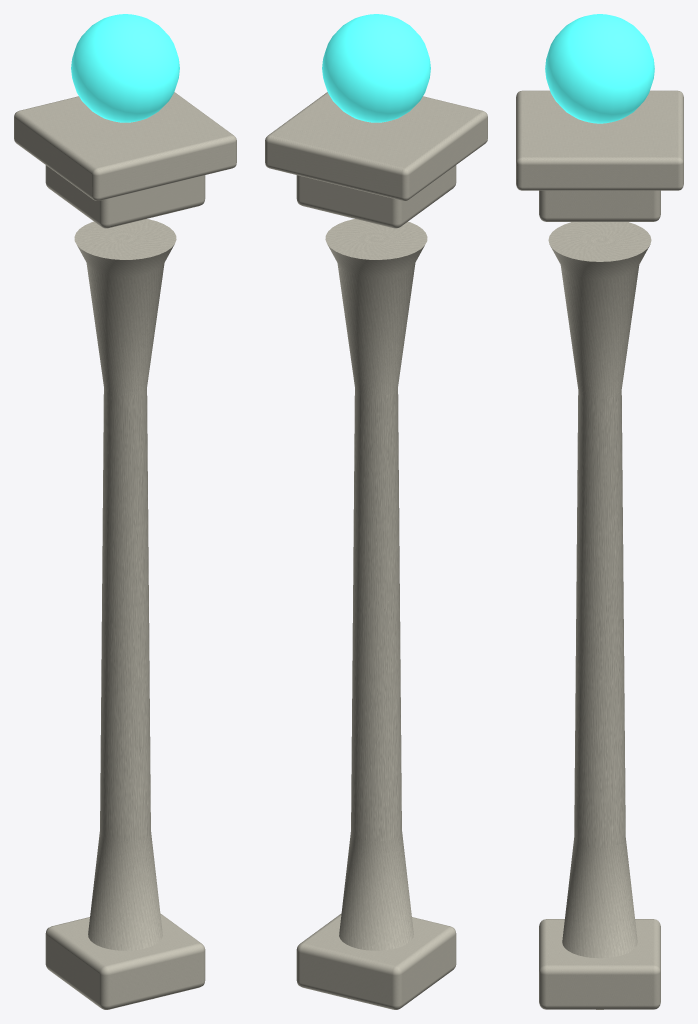
Rendered from arcane-academy-and-spell-trials-arcade-end-ffc407ca__28282.glb.
3 views of the same model, side by side, from view 1: azimuth 30°, elevation 25°; view 2: azimuth 150°, elevation 25°; view 3: azimuth 270°, elevation 25° (orthographic).
Visible parts, largest first — view 1: arcade-end; view 2: arcade-end; view 3: arcade-end.
Boxes of the visible parts, box(x1,y1,x2,y2) form: arcade-end: box(14, 14, 236, 1009); arcade-end: box(265, 14, 487, 1009); arcade-end: box(516, 14, 683, 1009).
Size of the model in its own units: 0.55 by 3.5 by 0.55.
2 materials, 1 textured.
